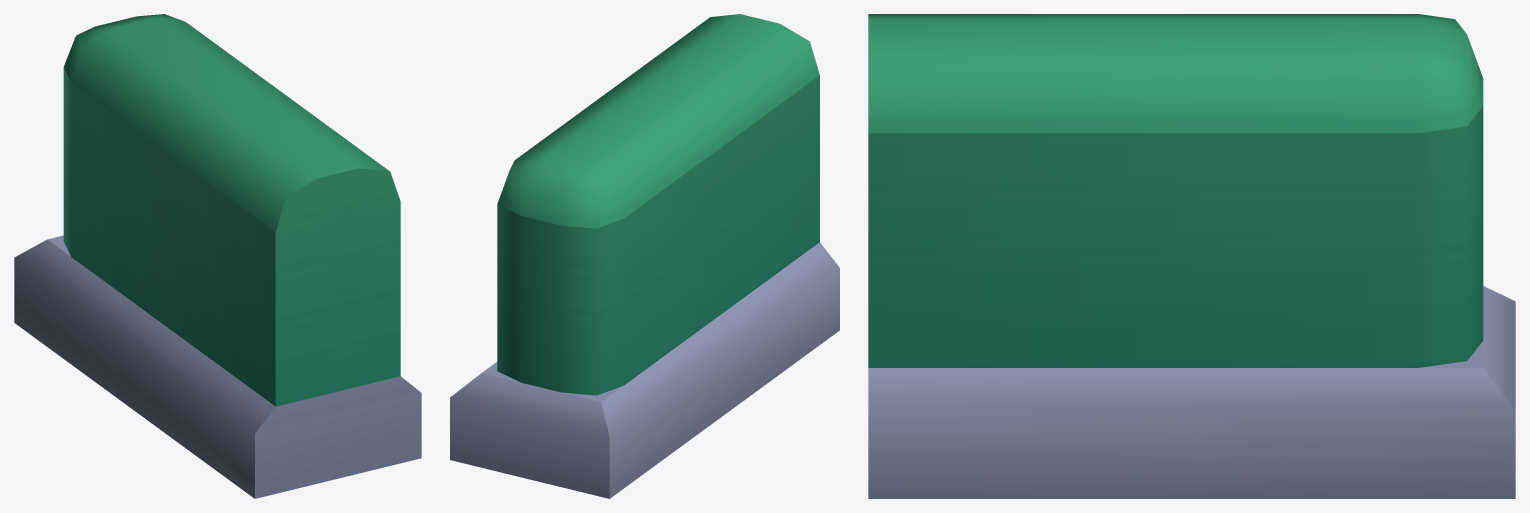
File: hedgeLargeEnd.fbx
3 renders of one model, left to right at view 1: azimuth 30°, elevation 25°; view 2: azimuth 150°, elevation 25°; view 3: azimuth 270°, elevation 25°, orthographic. The views are drawn at different scales.
Parts seen in each view (by area): view 1: hedgeLargeEnd; view 2: hedgeLargeEnd; view 3: hedgeLargeEnd.
Boxes of the visible parts, box(x1,y1,x2,y2) form: hedgeLargeEnd: box(14, 14, 421, 498); hedgeLargeEnd: box(450, 14, 839, 498); hedgeLargeEnd: box(868, 14, 1515, 498).
Bounding box in the file's own units: 0.4 × 1 × 0.7.
